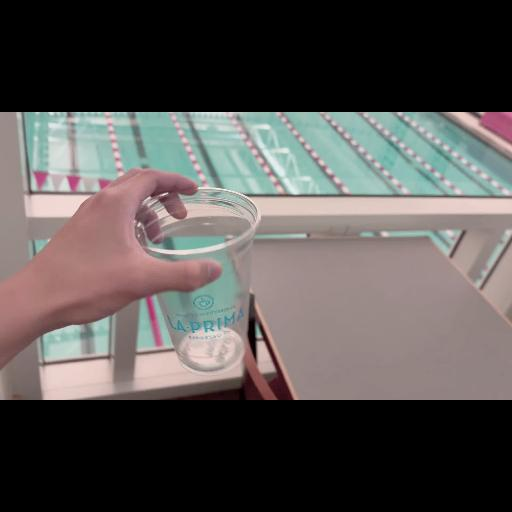lp_plastic_cup: (131, 185, 263, 377)
